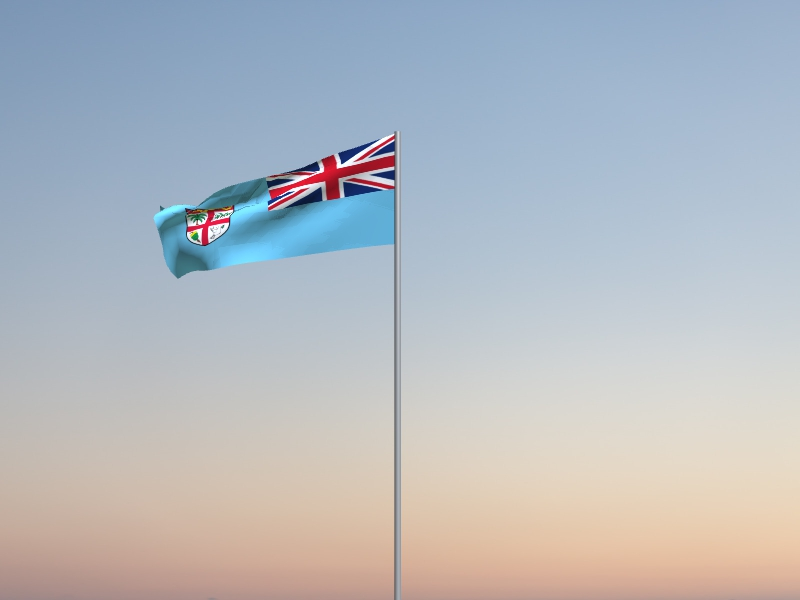fj: (153, 134, 394, 280)
